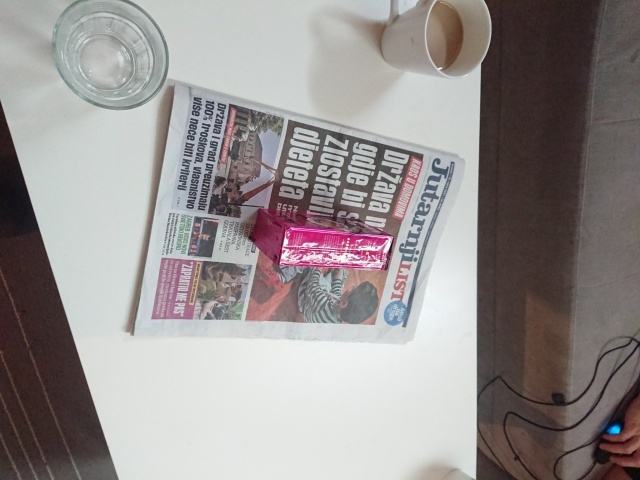Barcaffe Classic Original 225g: (246, 206, 397, 274)
